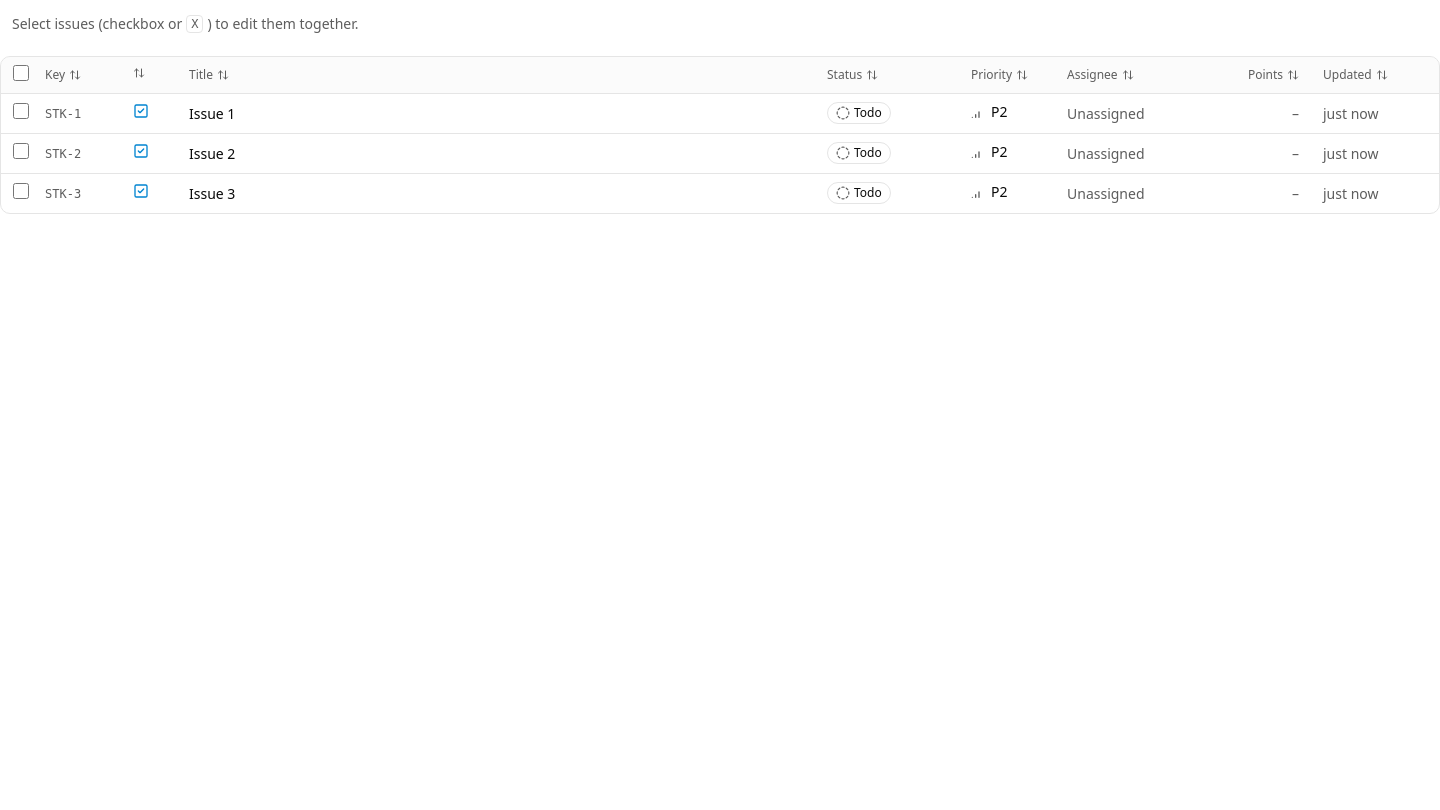
Test case: IssueList bulk edit (ISS-12) › rolls back when the bulk edit fails
Step 1. Click the checkbox named "Select STK-2" → click(21, 151), box [13,143,29,159]
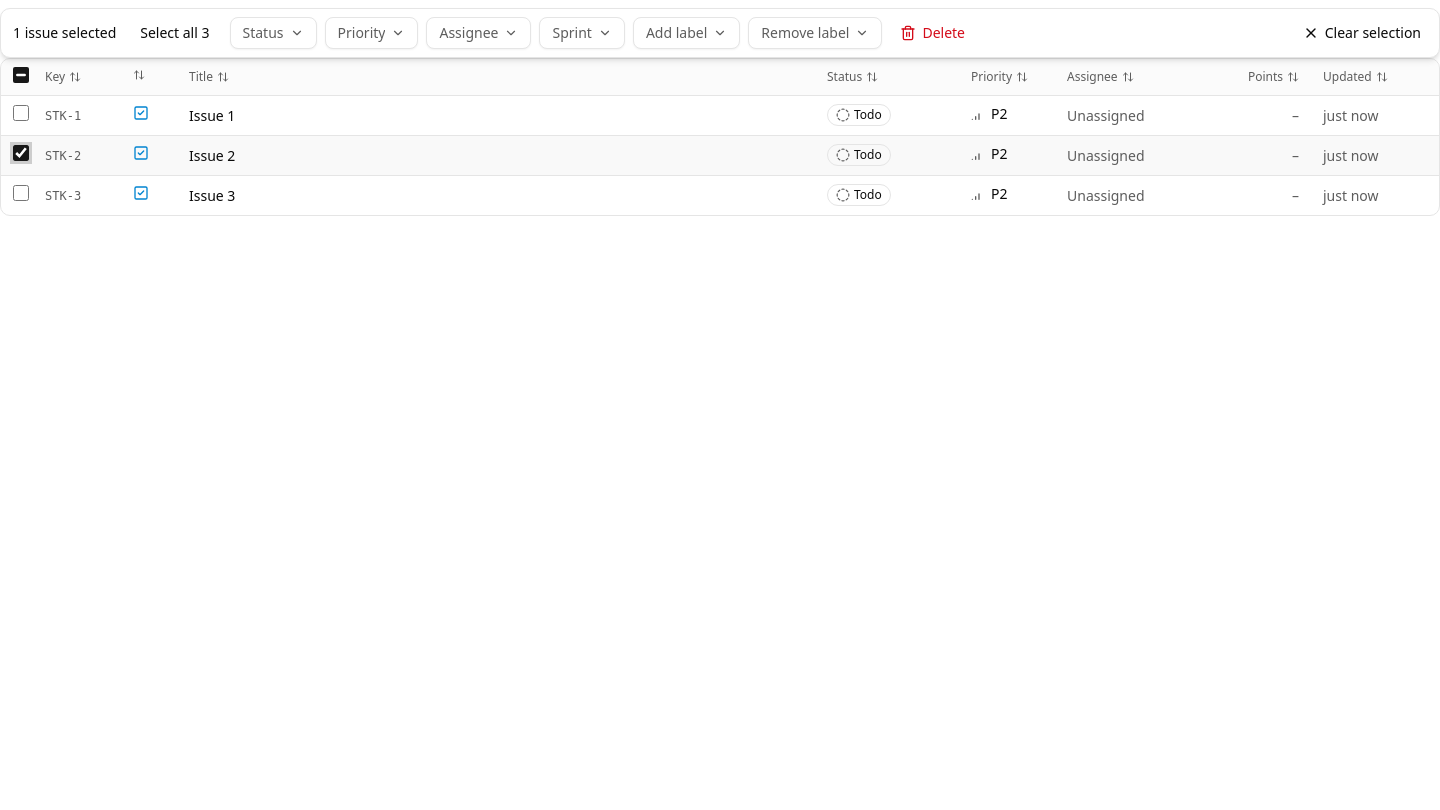
Step 2. Click the dropdown named "Set status of 1 issue" → click(273, 33), box [230,17,316,49]
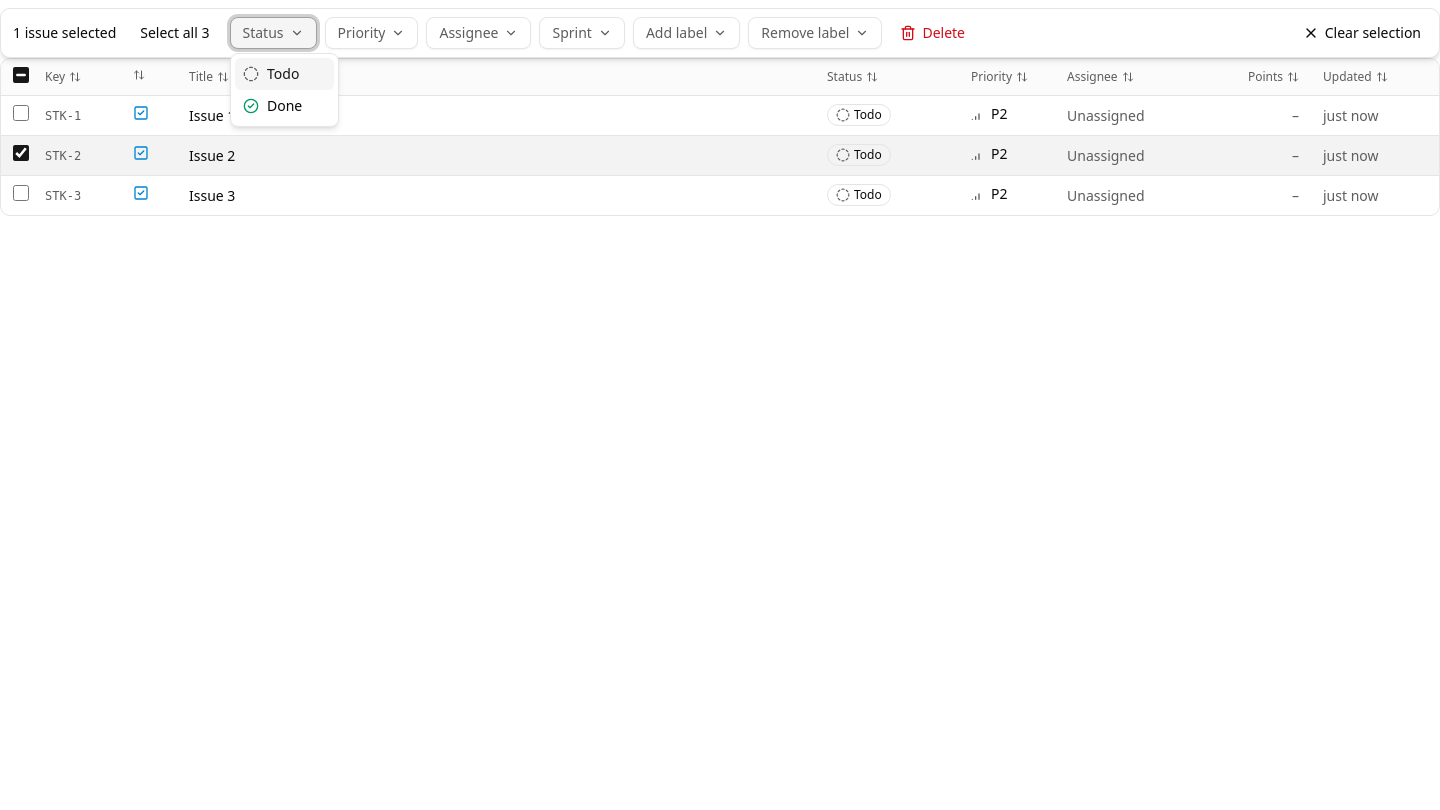
Step 3. Click the option "Done" → click(273, 106), box [243,96,302,115]
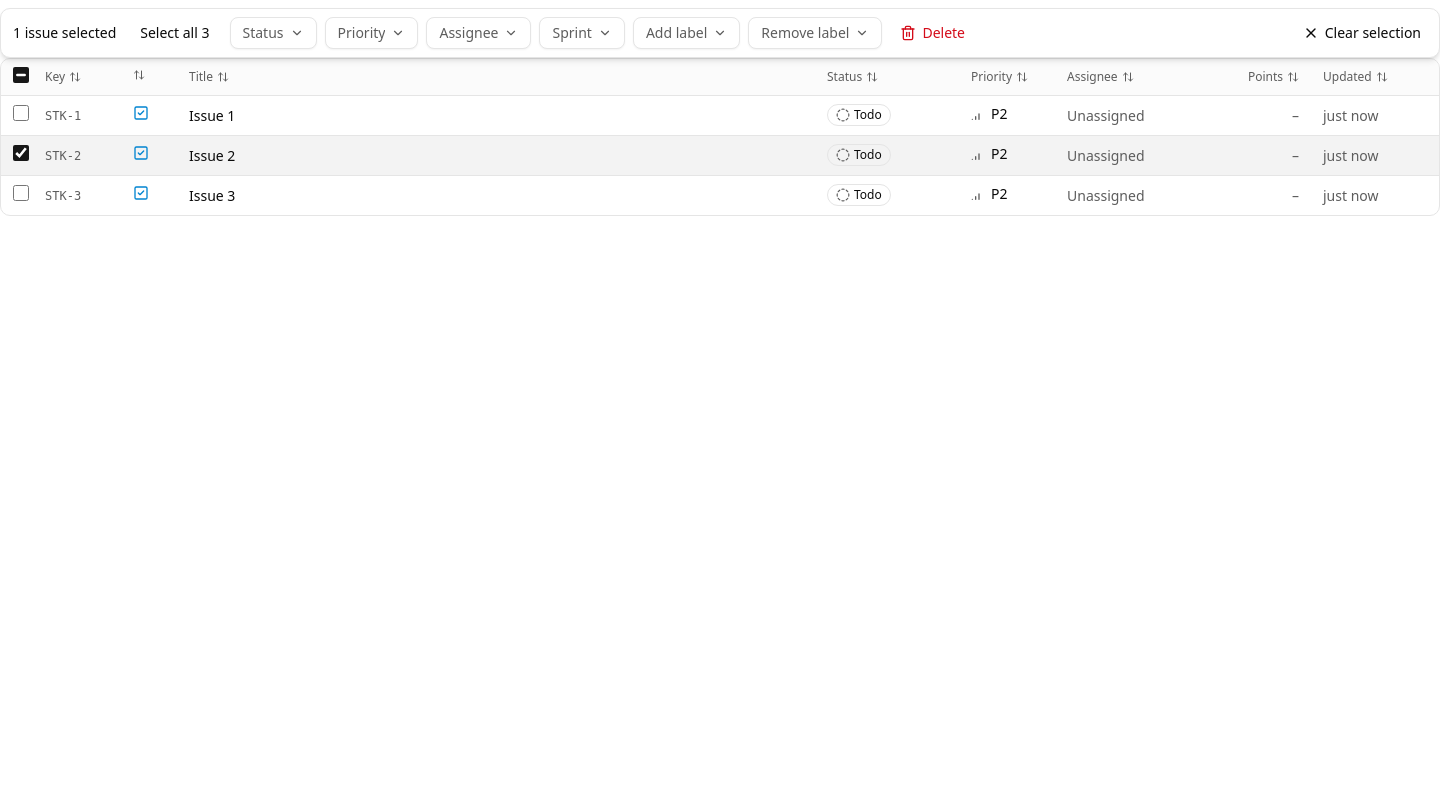
Now no options "Done" are shown
